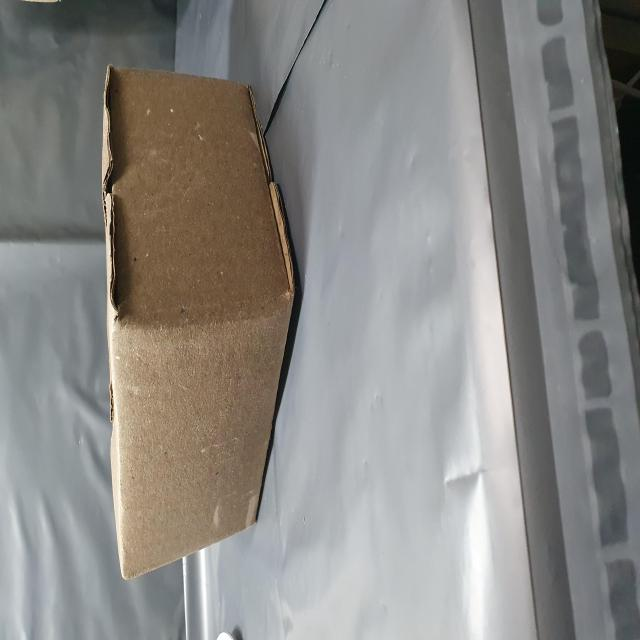wet: (31, 181, 319, 528)
